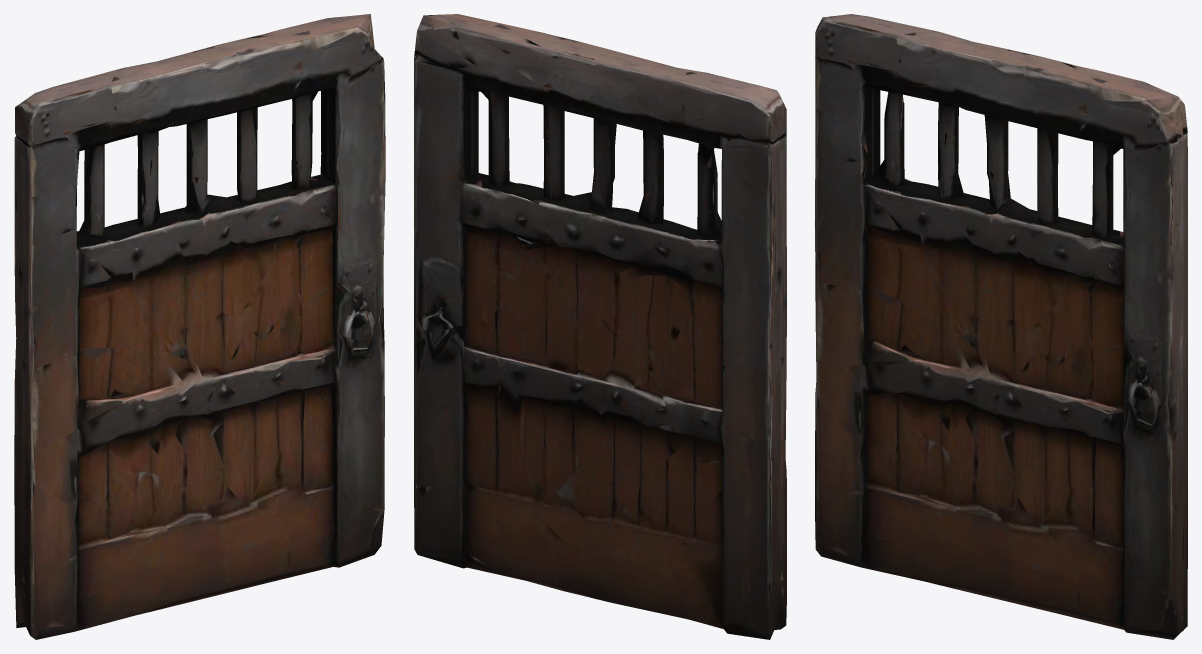
The model's file is blk_dungeon_door.glb.
The picture shows the model from 3 angles, left to right: view 1: azimuth 30°, elevation 25°; view 2: azimuth 150°, elevation 25°; view 3: azimuth 330°, elevation 25°; orthographic projection.
Visible parts, largest first — view 1: model; view 2: model; view 3: model.
Boxes of the visible parts, <box> form: model: <box>14,14,385,639</box>; model: <box>414,14,786,639</box>; model: <box>815,14,1187,639</box>.
Bounding box in the file's own units: 1.27 × 1.84 × 0.1316.
Materials: 1 (1 with a texture image).
